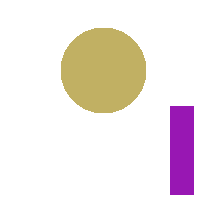circle: (61, 28, 145, 112)
rectangle: (170, 106, 193, 194)
